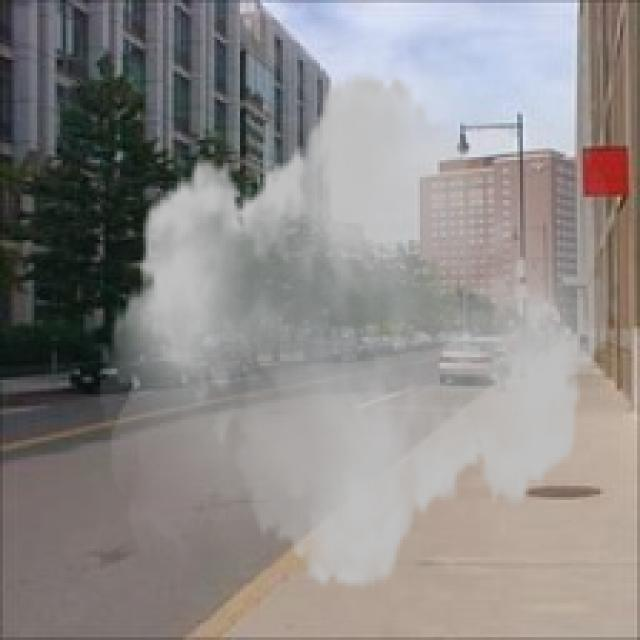Smoke: (100, 51, 620, 612)
